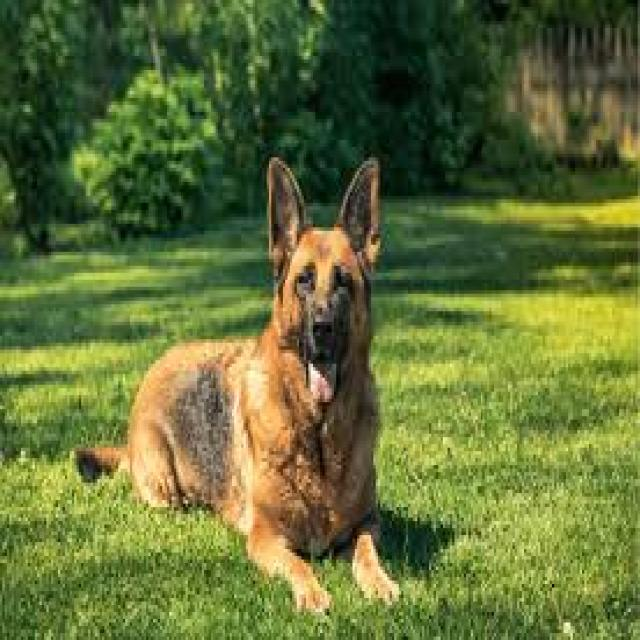Dog: (70, 146, 405, 621)
